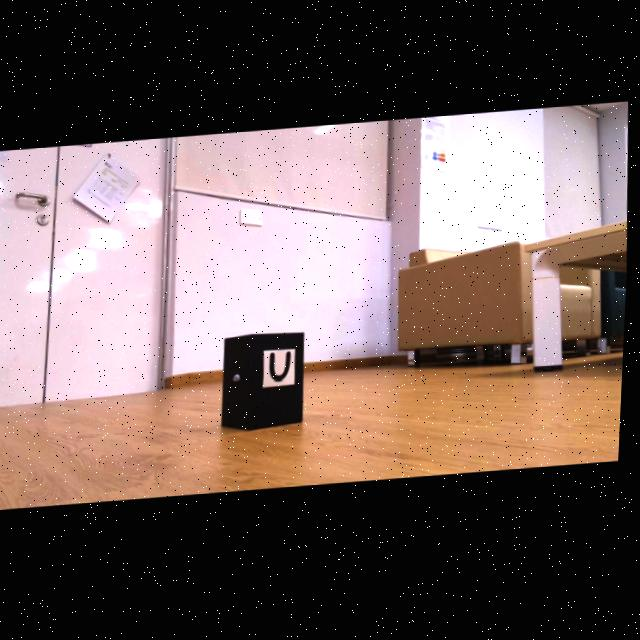U: (273, 355, 294, 383)
